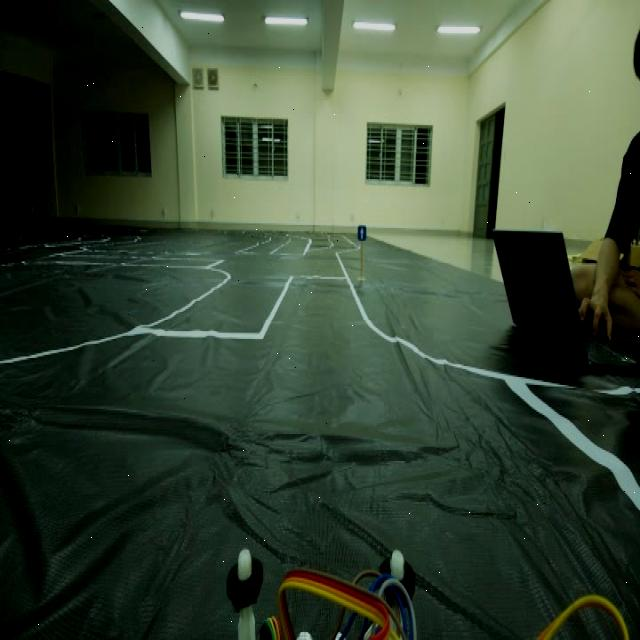onewayroad: (352, 220, 371, 246)
